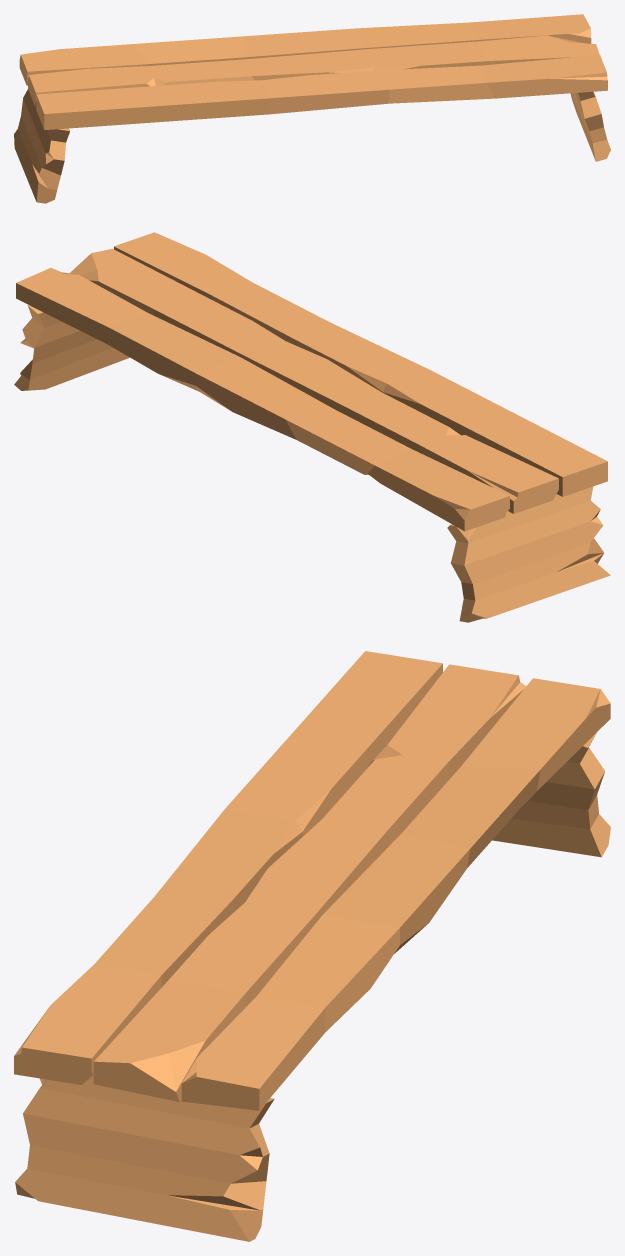
Rendered from BENCH.fbx.
3 renders of one model, top to bottom at view 1: azimuth 30°, elevation 25°; view 2: azimuth 150°, elevation 25°; view 3: azimuth 270°, elevation 25°, orthographic. The views are drawn at different scales.
Parts seen in each view (by area): view 1: Cube.013; view 2: Cube.013; view 3: Cube.013.
Boxes of the visible parts, x1,y1,x2,y2 form: Cube.013: (14, 14, 610, 203); Cube.013: (14, 232, 610, 622); Cube.013: (14, 651, 610, 1241).
Size of the model in its own units: 731 by 126 by 417.
